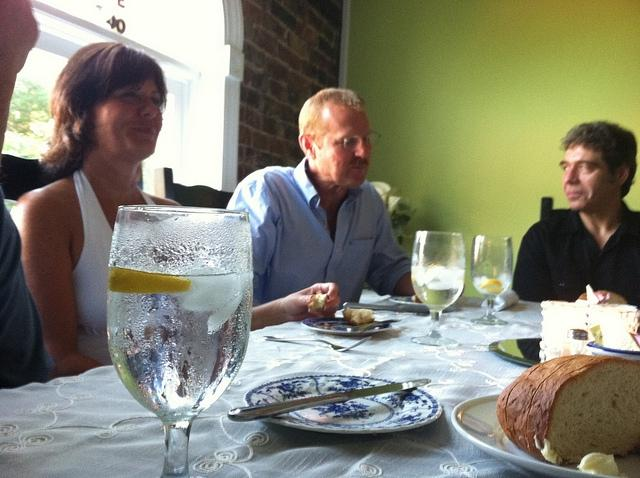lemon: (108, 267, 191, 293), (480, 278, 502, 288)
